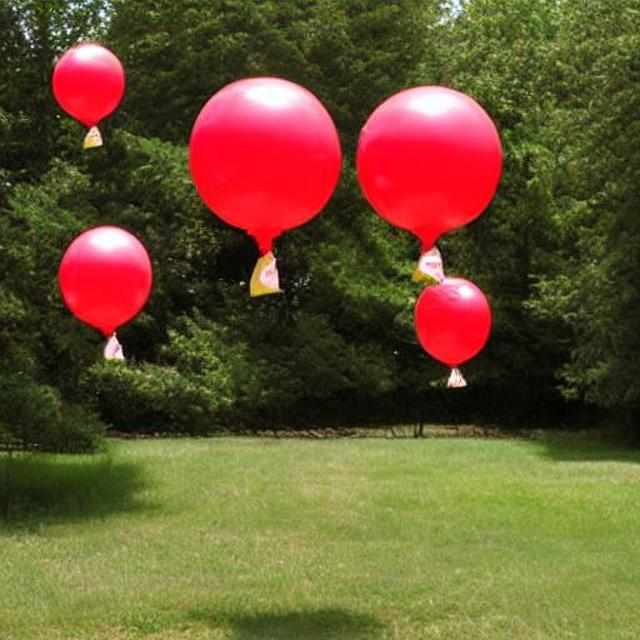balloon: (182, 74, 353, 287), (346, 76, 502, 302), (51, 221, 156, 358), (42, 38, 127, 147), (407, 273, 493, 373)
